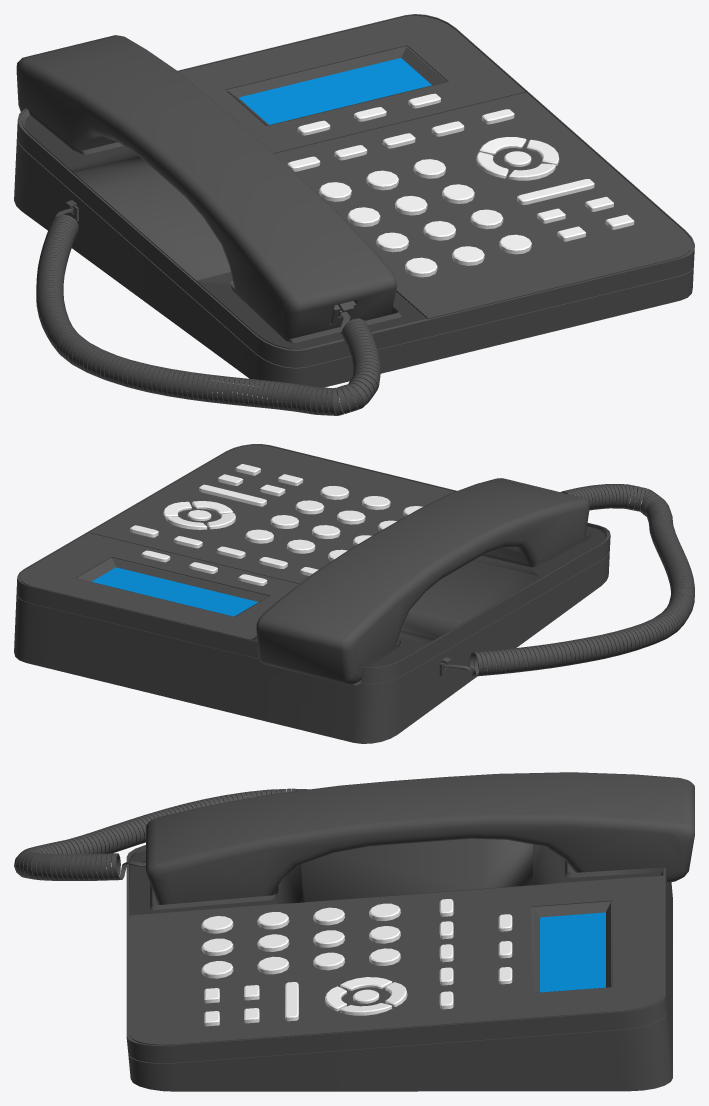
The model's file is phone.glb.
The picture shows the model from 3 angles, top to bottom: view 1: azimuth 30°, elevation 25°; view 2: azimuth 150°, elevation 25°; view 3: azimuth 270°, elevation 25°; orthographic projection. The views are drawn at different scales.
Parts seen in each view (by area): view 1: tel_fijo_Plano.003; view 2: tel_fijo_Plano.003; view 3: tel_fijo_Plano.003.
Boxes of the visible parts, x1,y1,x2,y2 form: tel_fijo_Plano.003: (14, 14, 694, 415); tel_fijo_Plano.003: (14, 444, 694, 743); tel_fijo_Plano.003: (14, 772, 694, 1091).
Bounding box in the file's own units: 0.2465 × 0.0593 × 0.2622.
